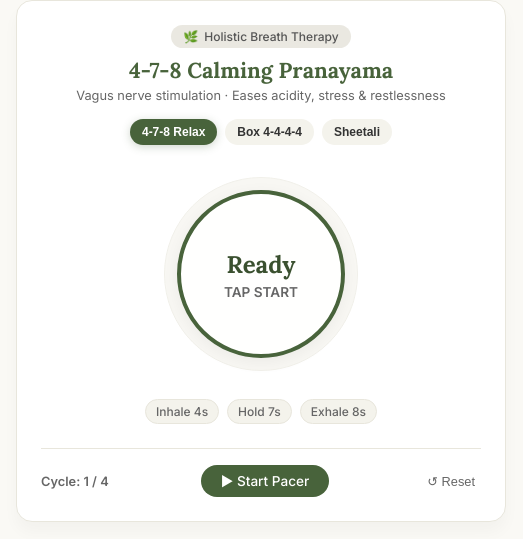
BreathingPacer Component › switches pattern to Sheetali cooling breath
The image size is (523, 539).
What coordinates should you click on to do the following:
click the button "Sheetali"
I would click on:
 (357, 132)
Its box is top-left (322, 119), bottom-right (392, 145).
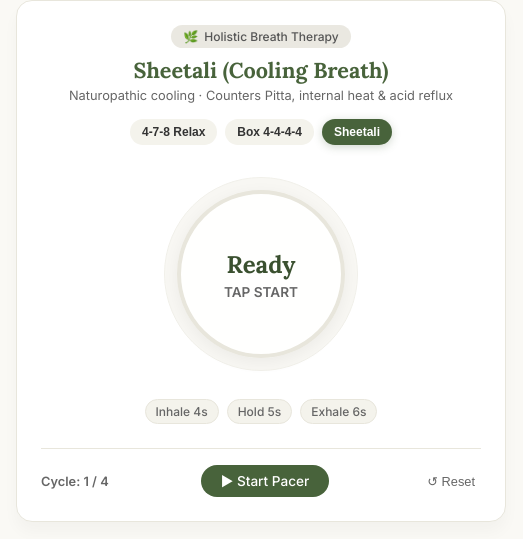
Expected: the heading "Sheetali (Cooling Breath)" is shown, top-left (134, 56), bottom-right (388, 84)
